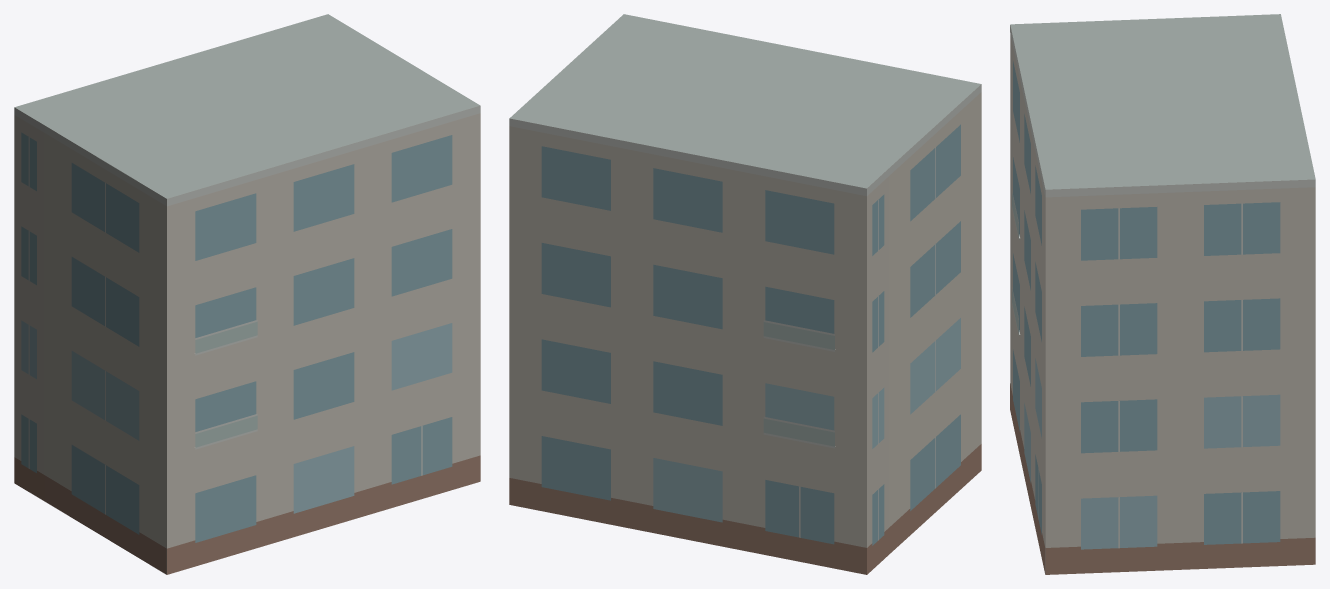
The model's file is residential-3ad8a51b-ea61-49f6-979e-69fc3a4b1bab.glb.
3 renders of one model, left to right at view 1: azimuth 30°, elevation 25°; view 2: azimuth 150°, elevation 25°; view 3: azimuth 270°, elevation 25°, orthographic. The views are drawn at different scales.
Parts seen in each view (by area): view 1: residential-3ad8a51b-ea61-49f6-979e-69fc3a4b1bab.tmp; view 2: residential-3ad8a51b-ea61-49f6-979e-69fc3a4b1bab.tmp; view 3: residential-3ad8a51b-ea61-49f6-979e-69fc3a4b1bab.tmp.
Boxes of the visible parts, box(x1,y1,x2,y2) form: residential-3ad8a51b-ea61-49f6-979e-69fc3a4b1bab.tmp: box(14, 14, 480, 574); residential-3ad8a51b-ea61-49f6-979e-69fc3a4b1bab.tmp: box(509, 14, 981, 574); residential-3ad8a51b-ea61-49f6-979e-69fc3a4b1bab.tmp: box(1010, 14, 1315, 574).
Bounding box in the file's own units: 11.95 × 12.2 × 8.78.
